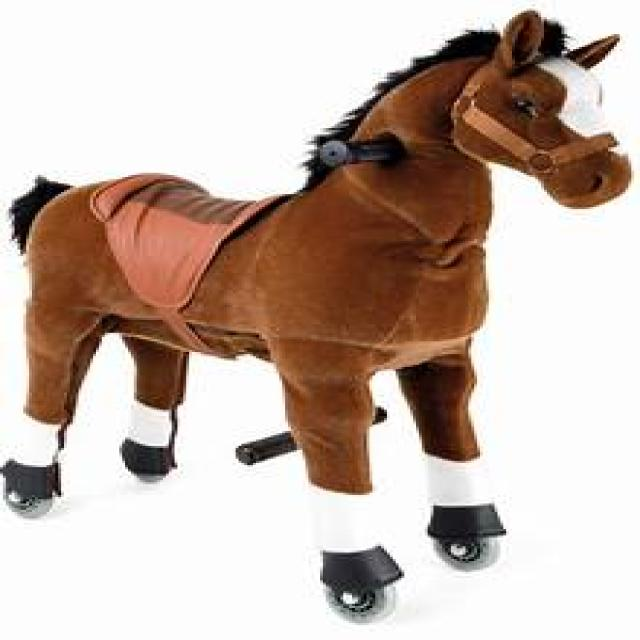animal: (0, 6, 631, 622)
